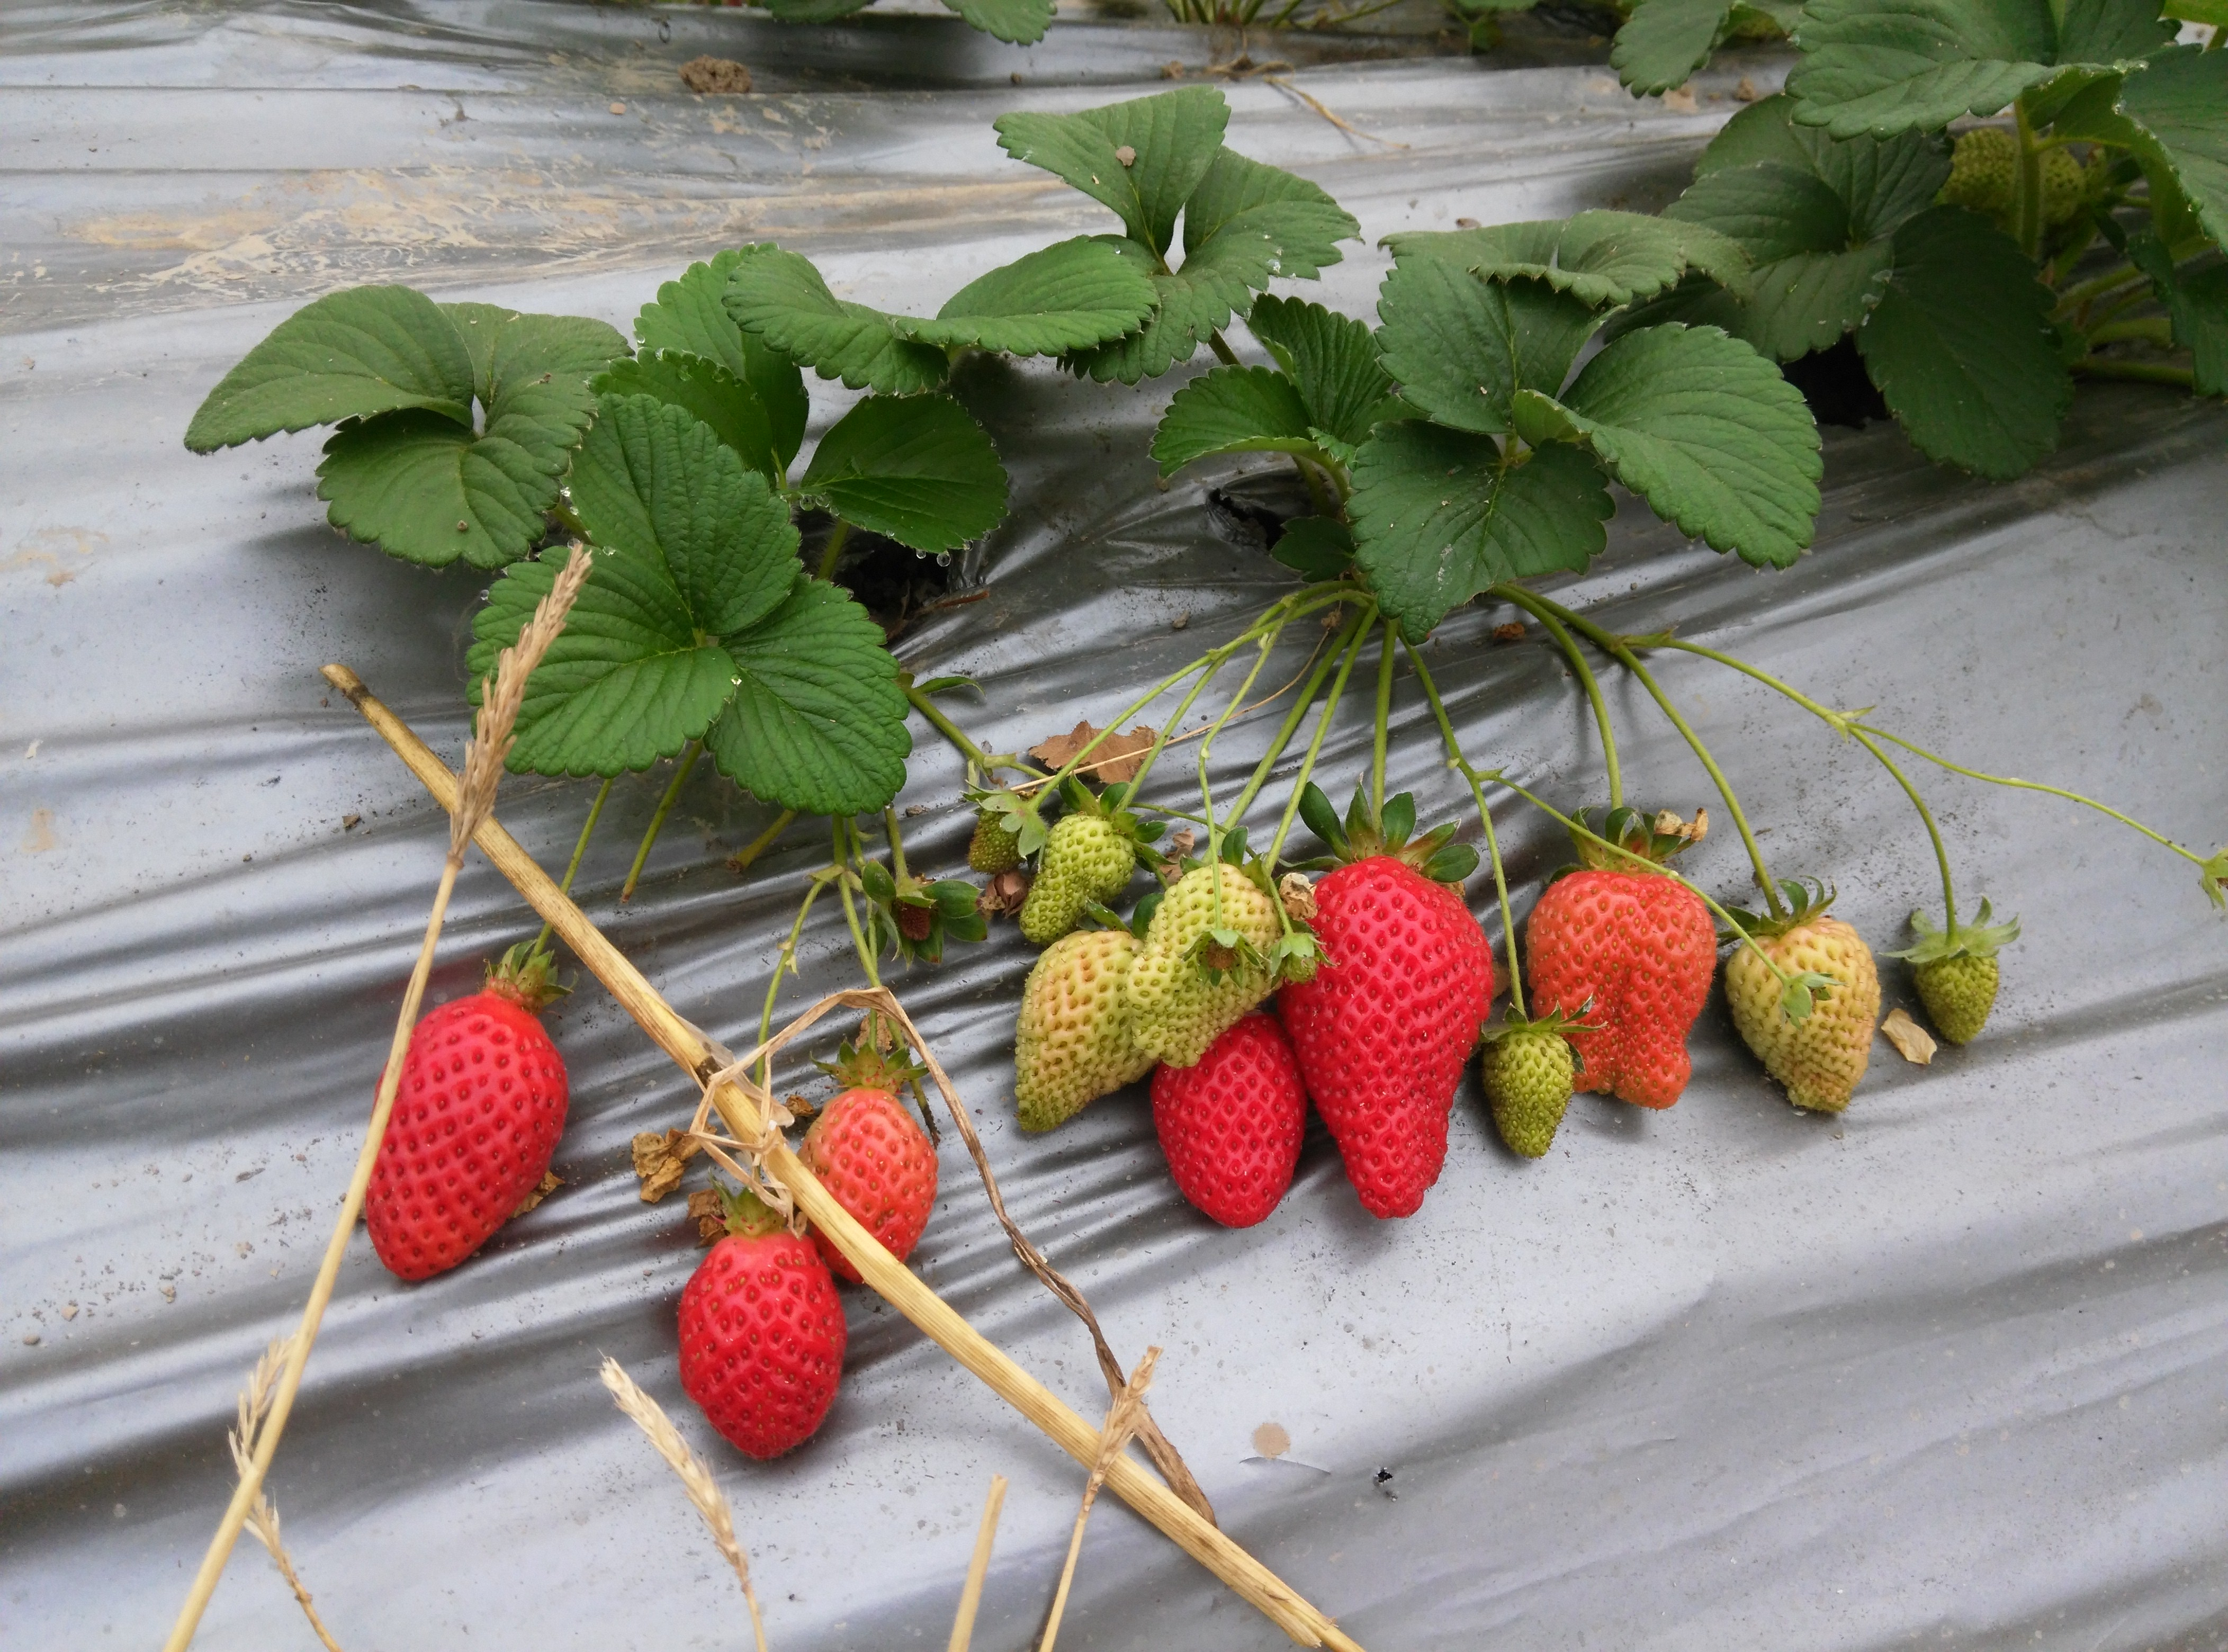StrawberryCone: (1300, 859, 1499, 1227)
StrawberryFusiform: (344, 977, 578, 1289), (666, 1227, 852, 1465)
StrawberryIrremovable: (1527, 859, 1718, 1121), (1128, 855, 1293, 1071), (1006, 932, 1163, 1138), (1727, 911, 1877, 1118), (800, 1081, 946, 1284), (1942, 99, 2093, 229), (1017, 810, 1138, 942), (1485, 1020, 1581, 1166), (1914, 921, 2006, 1057), (968, 791, 1048, 876), (1270, 935, 1320, 986)
StrawberryOther: (1143, 1001, 1305, 1232)
StrawberryRemovable: (1289, 864, 1496, 1223), (352, 982, 573, 1293), (673, 1223, 847, 1465), (1152, 1006, 1310, 1229)
